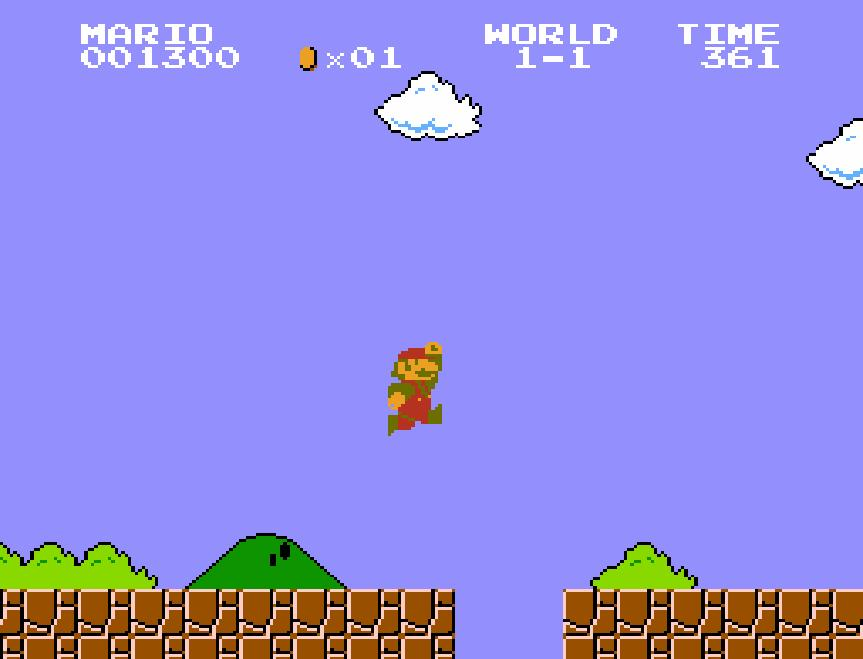big_mario: (386, 340, 444, 438)
